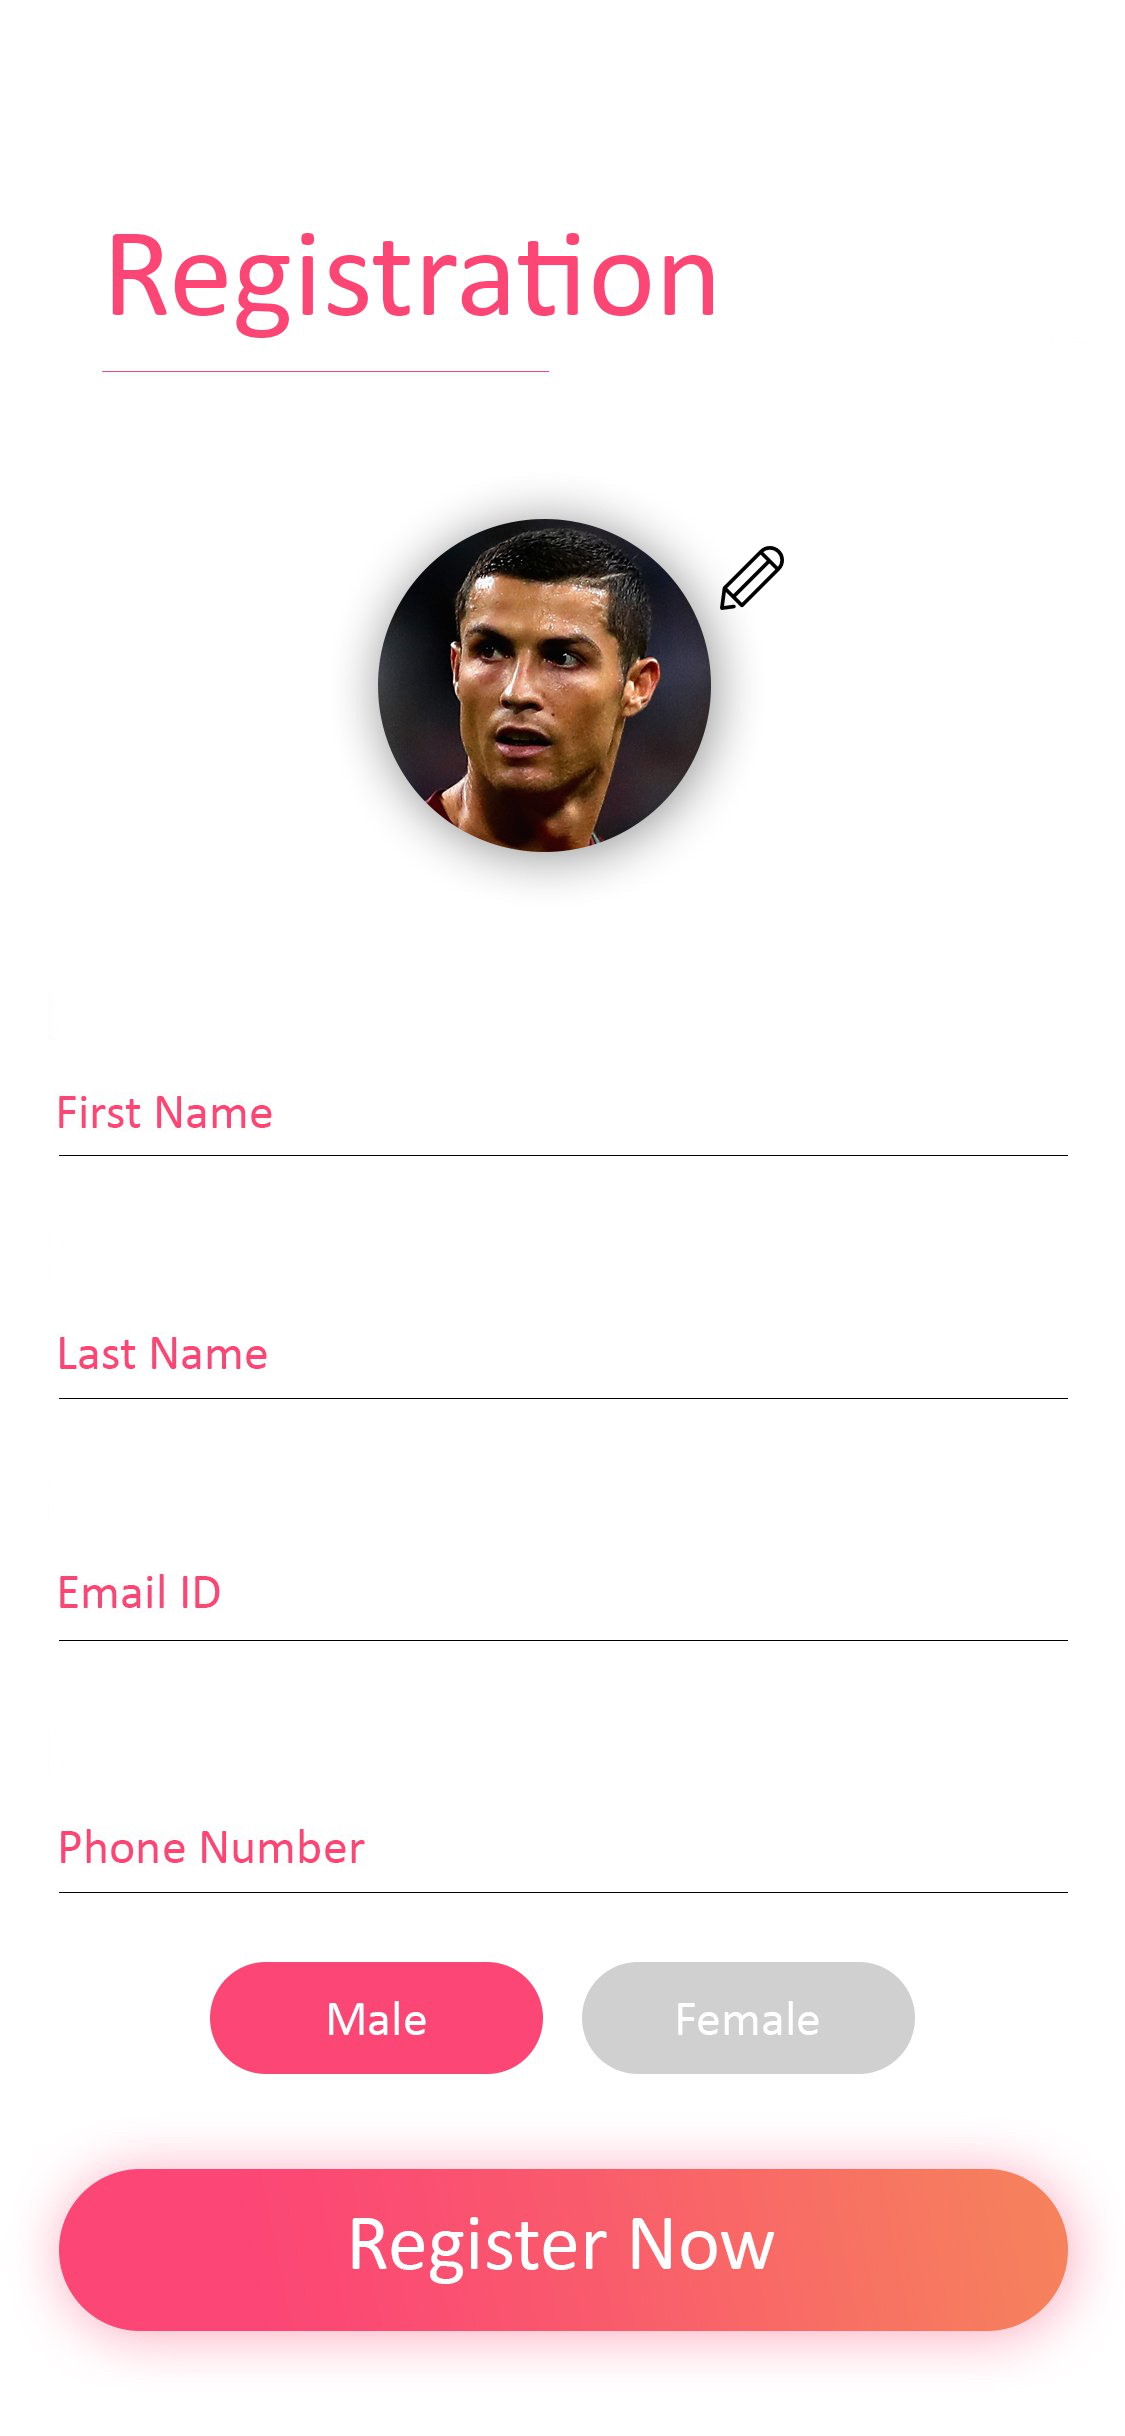EditText: (59, 1574, 1069, 1642), (59, 1829, 1069, 1894), (59, 1336, 1069, 1400), (59, 1095, 1069, 1157)
Icon: (719, 545, 786, 614)
Image: (378, 519, 712, 854)
Text: (112, 233, 715, 340), (61, 1095, 272, 1129), (61, 1336, 266, 1370), (61, 1574, 221, 1609)
TextButton: (59, 2167, 1068, 2332), (210, 1961, 544, 2076), (583, 1961, 915, 2076)
